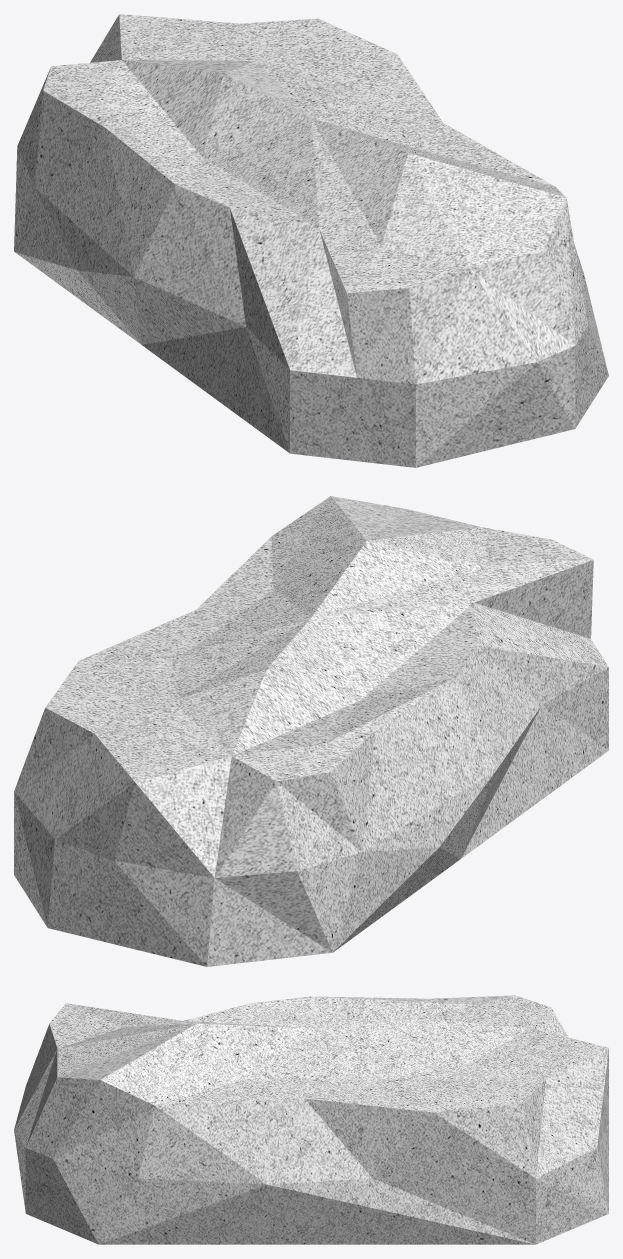
File: rock_2_vert.fbx
3 renders of one model, top to bottom at view 1: azimuth 30°, elevation 25°; view 2: azimuth 150°, elevation 25°; view 3: azimuth 270°, elevation 25°, orthographic. The views are drawn at different scales.
Parts seen in each view (by area): view 1: Mazee.019; view 2: Mazee.019; view 3: Mazee.019.
Boxes of the visible parts, box(x1,y1,x2,y2) form: Mazee.019: box(14, 14, 608, 467); Mazee.019: box(14, 496, 608, 966); Mazee.019: box(14, 995, 608, 1244).
Size of the model in its own units: 112 by 63.34 by 204.
